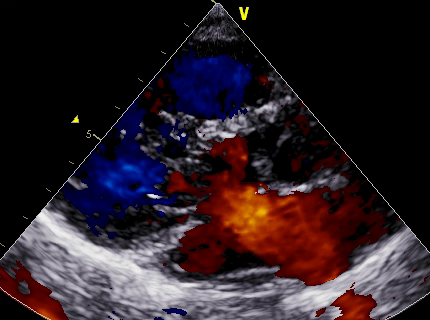AR: (164, 131, 267, 212)
